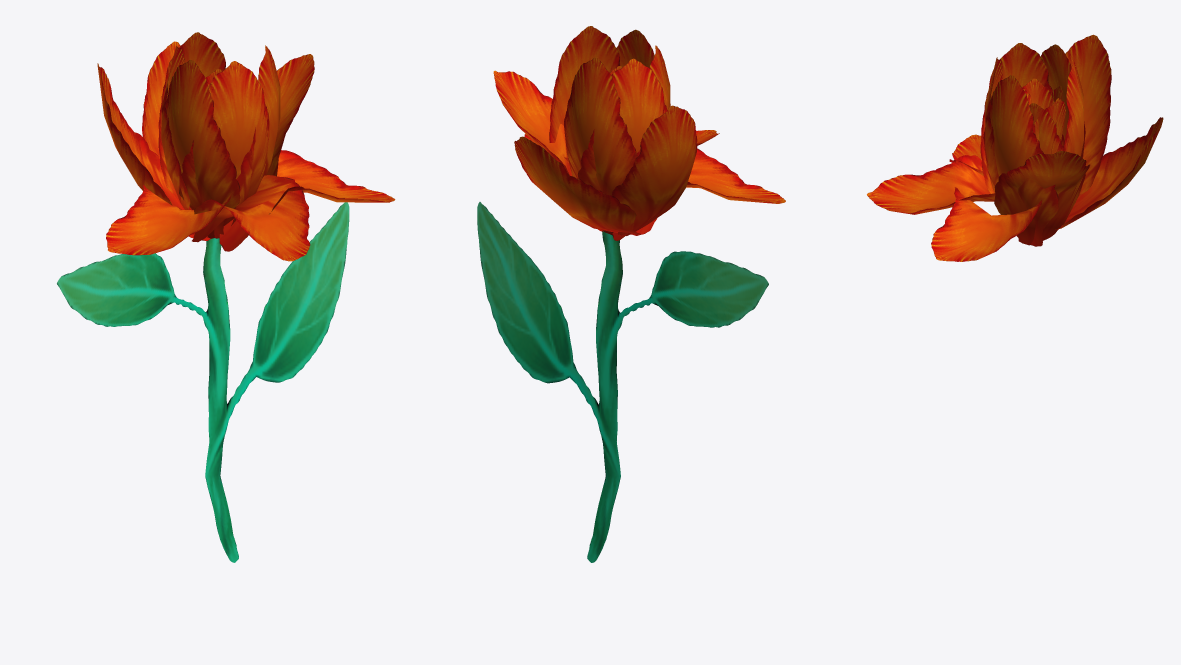
File: OrangeFlower_02.fbx
3 renders of one model, left to right at view 1: azimuth 30°, elevation 25°; view 2: azimuth 150°, elevation 25°; view 3: azimuth 270°, elevation 25°, orthographic. The views are drawn at different scales.
Parts seen in each view (by area): view 1: FlowerStem002; view 2: FlowerStem002; view 3: FlowerStem002.
Boxes of the visible parts, left/top/right/bottom form: FlowerStem002: left=57, top=32, right=395, bottom=562; FlowerStem002: left=477, top=26, right=785, bottom=562; FlowerStem002: left=867, top=34, right=1163, bottom=261.
Size of the model in its own units: 5.98 by 9.22 by 4.75.
